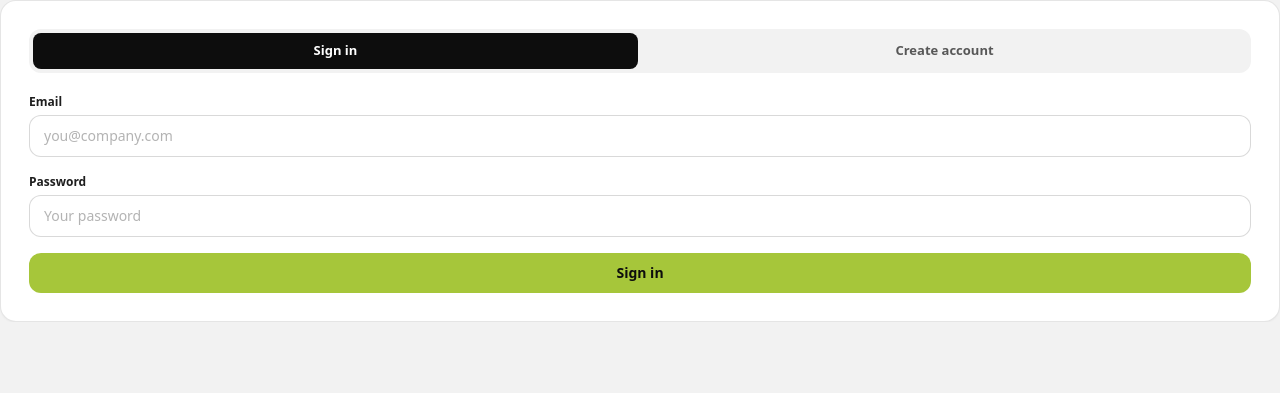
Scenario: invitation request recovery › does not submit a second signup while the first is pending
The width and height of the screenshot is (1280, 393).
Click the button "Create account" at coordinates (944, 51), box [642,33,1247,68]
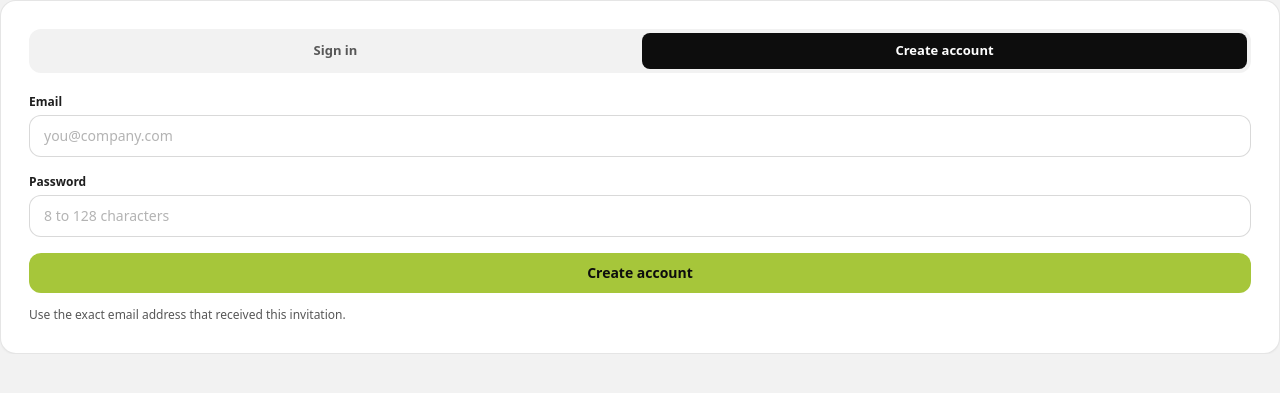
Type "CLIENT@example.invalid" into the field labelled "Email" at coordinates (640, 136), box [29,114,1251,156]
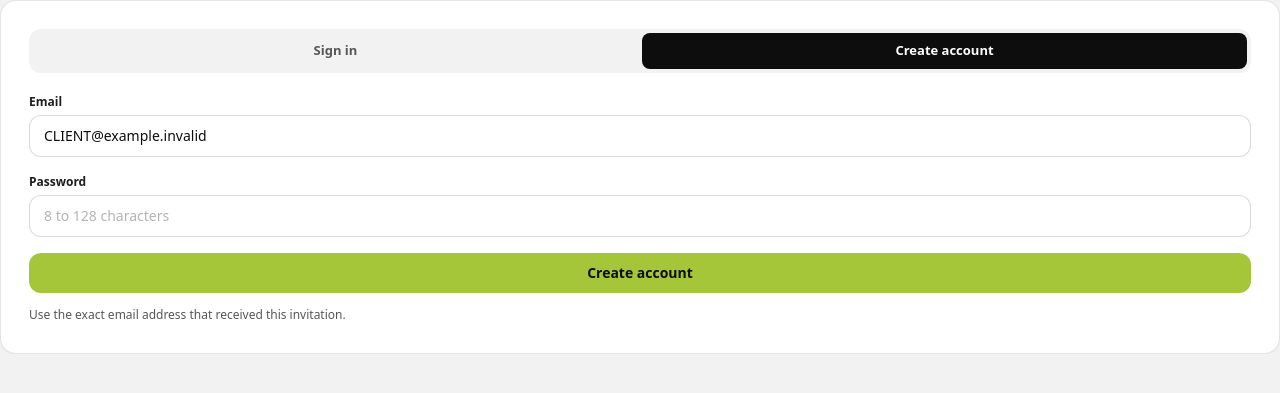
Type "synthetic-test-password" into the password field labelled "Password" at coordinates (640, 216), box [29,194,1251,236]
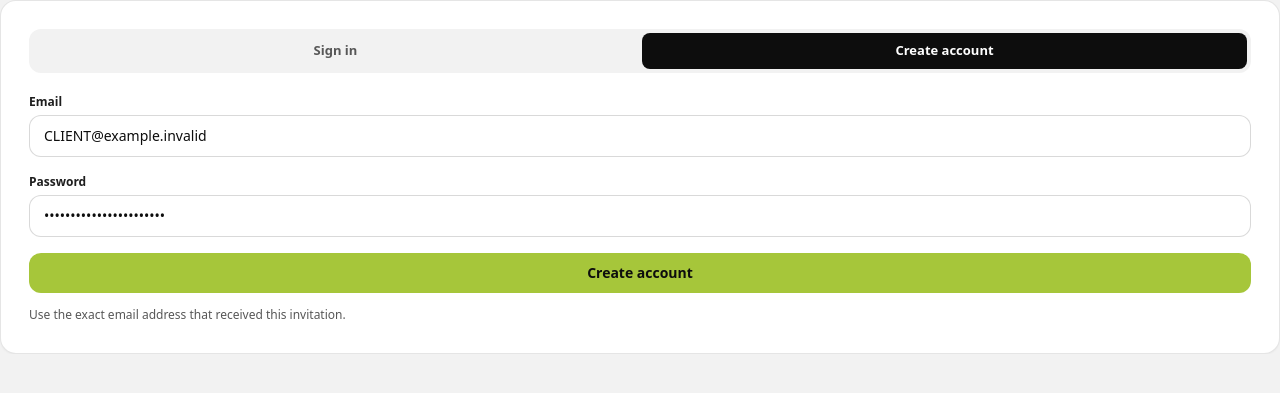
Submit the form, box [29,92,1251,292]
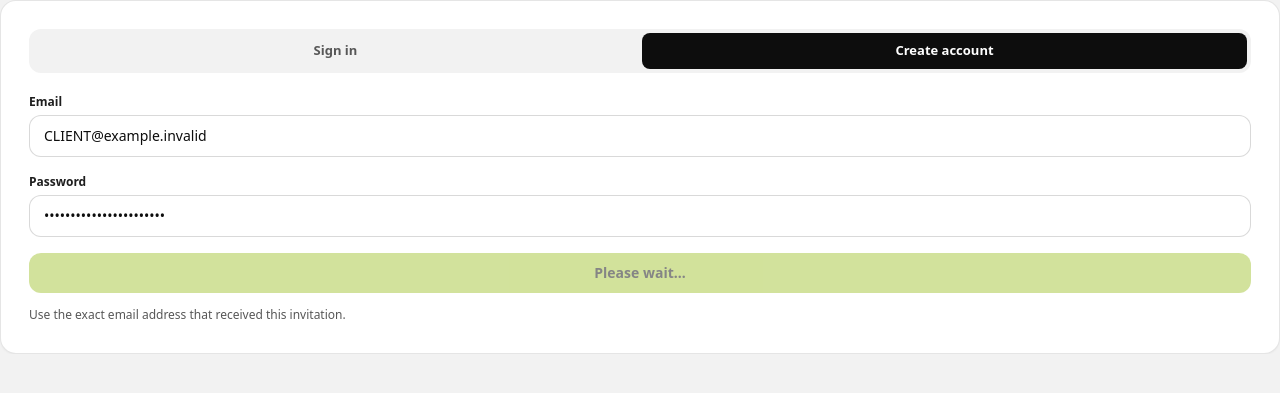
Submit the form, box [29,92,1251,292]
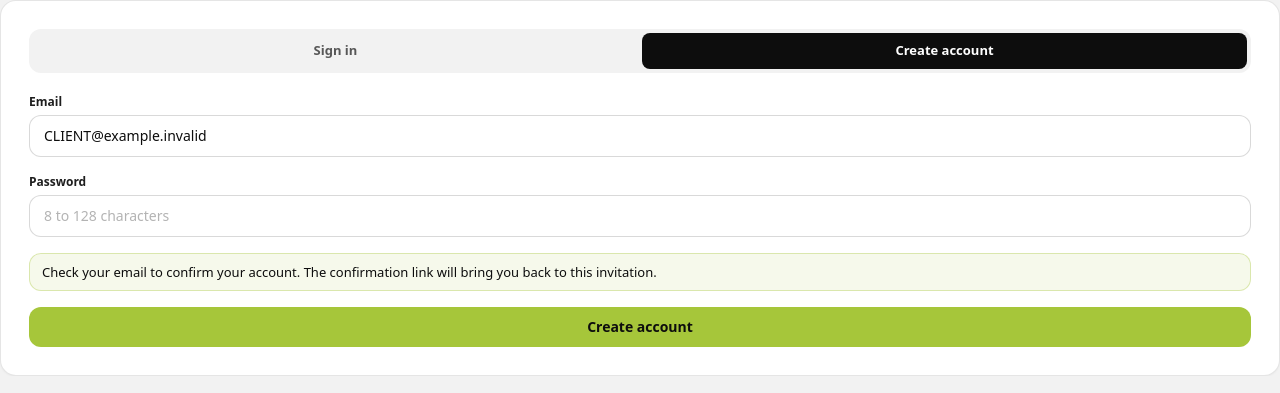
Check: the message shows "Check your email", box [42,262,657,280]
